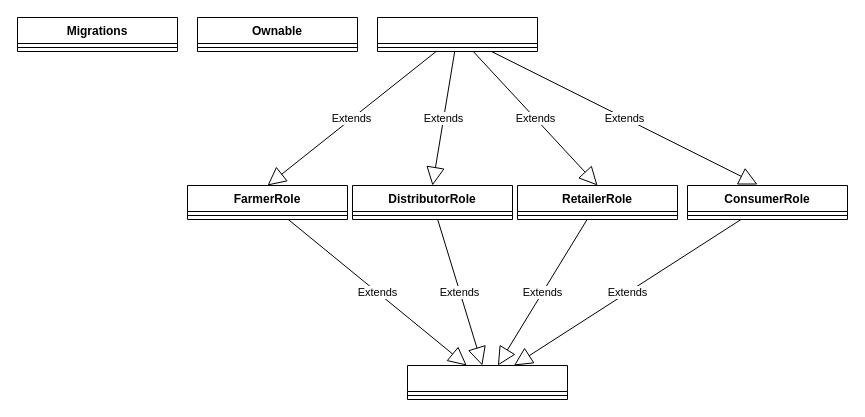
Image size: 865x417. Some labels were removed from this diagram. The centre of each missing label's shape, as x and y in pixels:
Roles: pixel 457 34
SupplyChain: pixel 487 382
